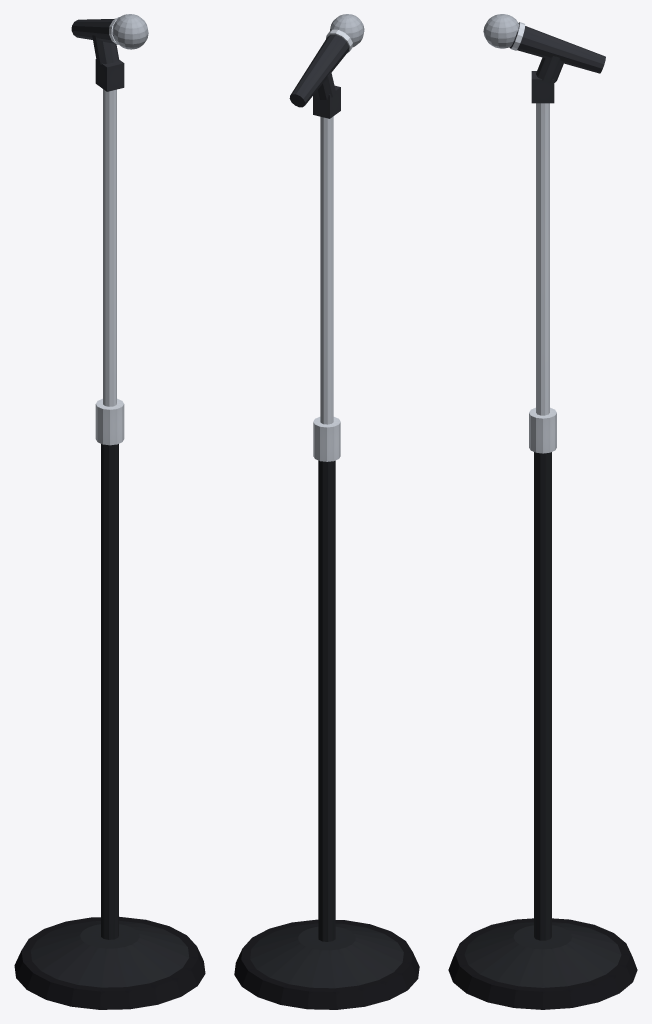
The model's file is MicrophoneStand.fbx.
The picture shows the model from 3 angles, left to right: view 1: azimuth 30°, elevation 25°; view 2: azimuth 150°, elevation 25°; view 3: azimuth 270°, elevation 25°; orthographic projection. The views are drawn at different scales.
Visible parts, largest first — view 1: MicrophoneStand; view 2: MicrophoneStand; view 3: MicrophoneStand.
Part boxes in pixels (x1,y1,x2,y2): MicrophoneStand: (14,14,205,1009); MicrophoneStand: (234,14,419,1009); MicrophoneStand: (448,14,637,1009).
Size of the model in its own units: 0.27 by 1.5 by 0.27.
1 material, 1 textured.
